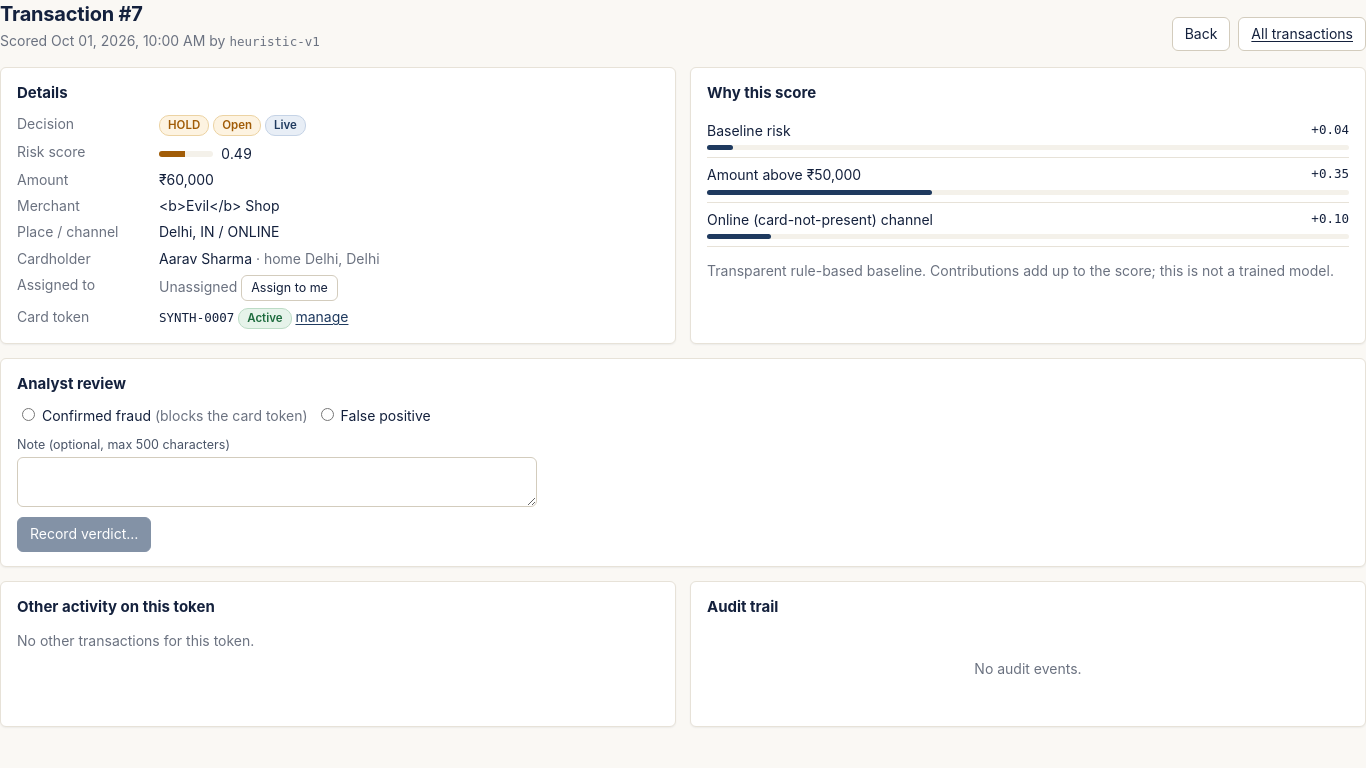
Test: investigation flow › shows a recoverable error when the alert was already reviewed
Click the radio button labelled "False positive".
click(327, 414)  # box [321,408,334,421]
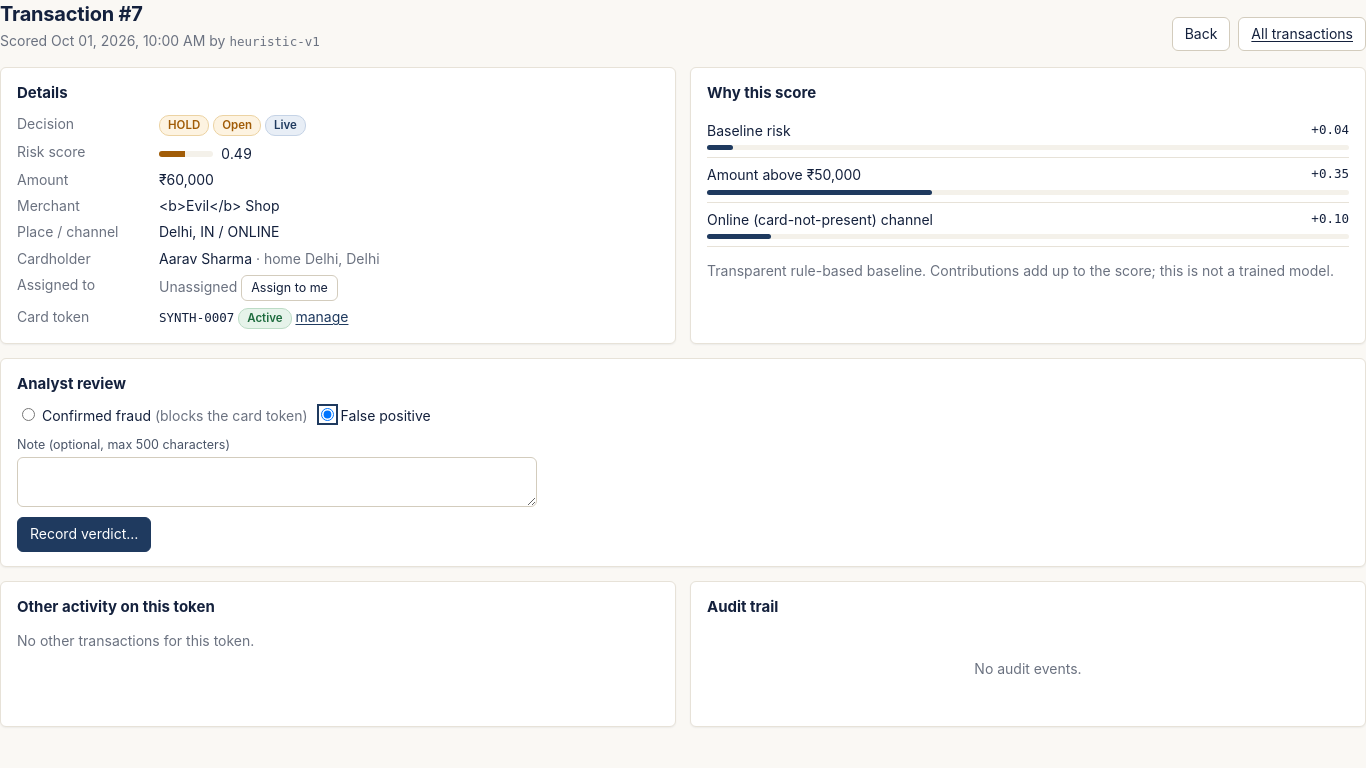
Click the button "Record verdict…".
click(84, 534)  # box [17,517,151,552]
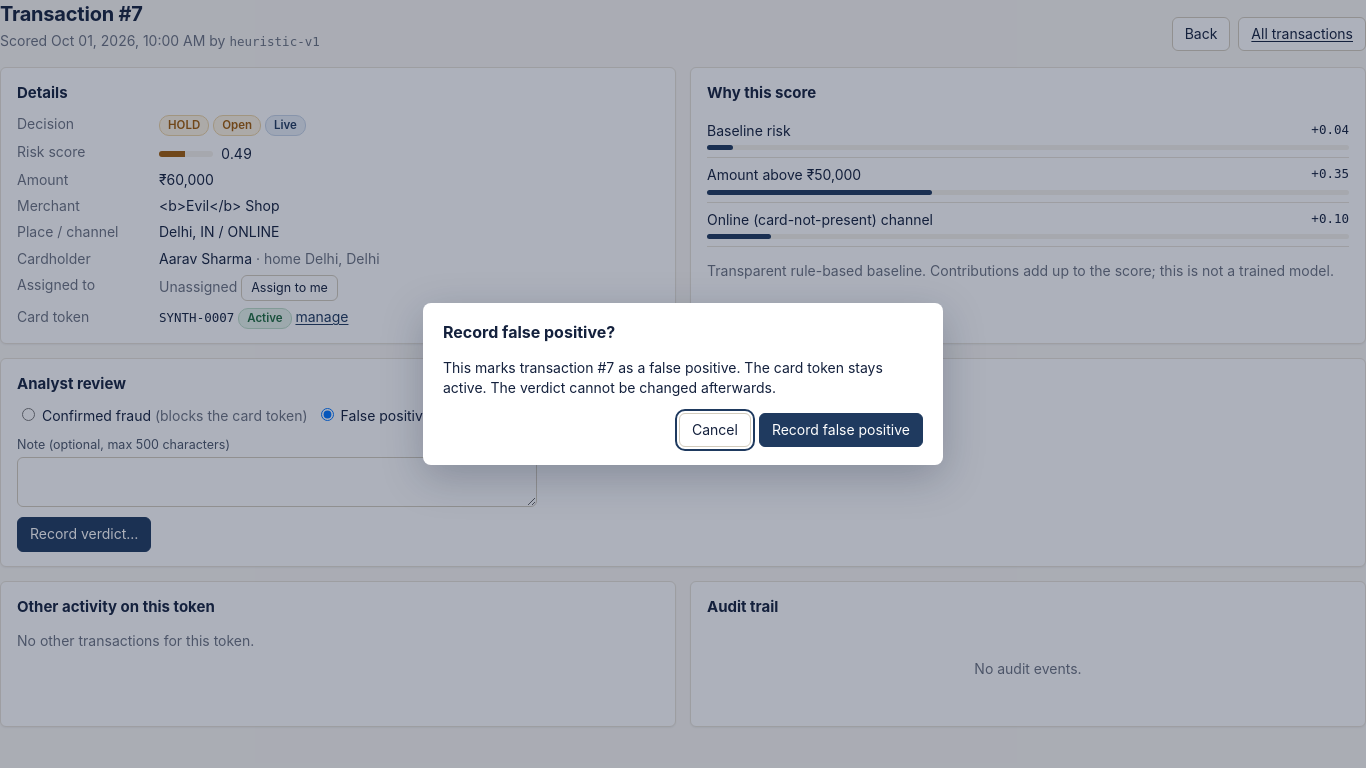
Click the button "Record false positive".
click(841, 430)  # box [759,413,923,447]
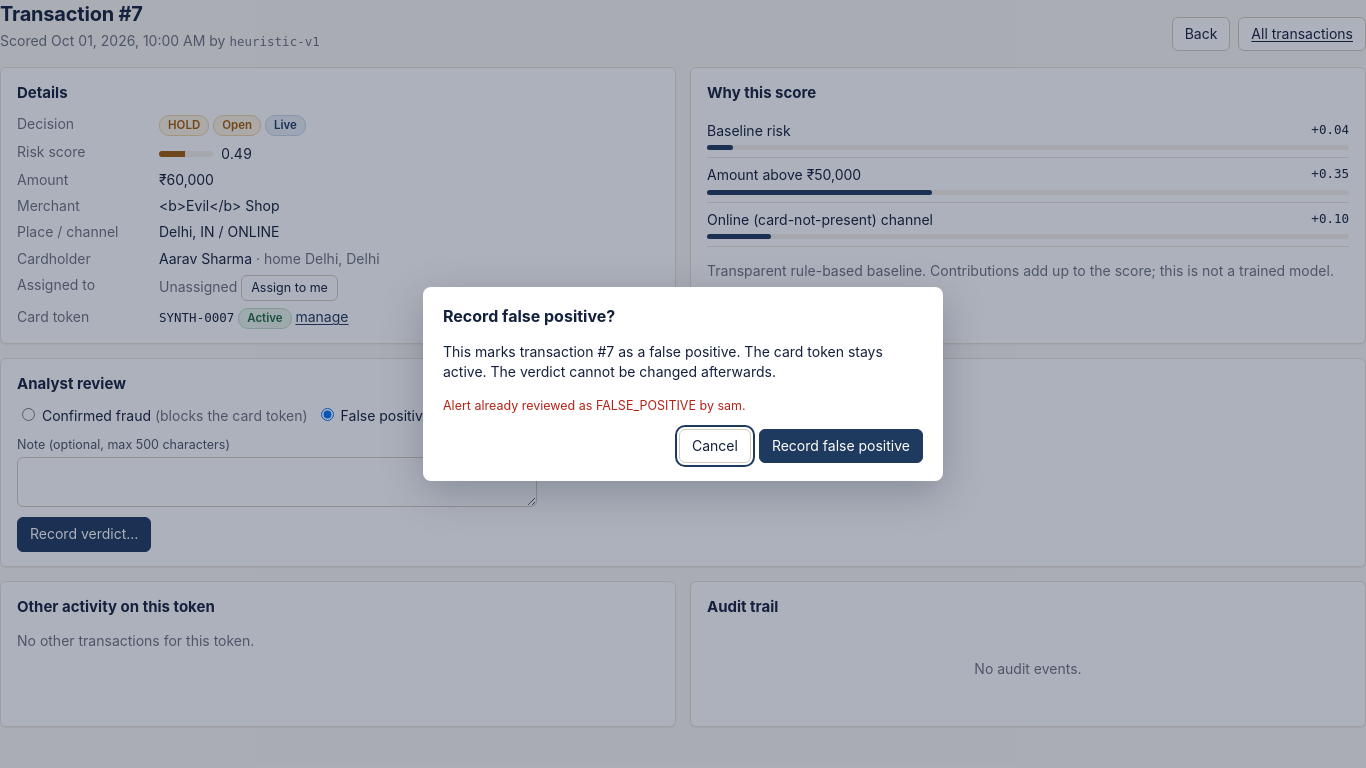
Now the button "Cancel" is enabled, box [679,429,751,463]
Now the text "Alert already reviewed as FALSE_POSITIVE by sam." is shown, box [443,398,746,413]
